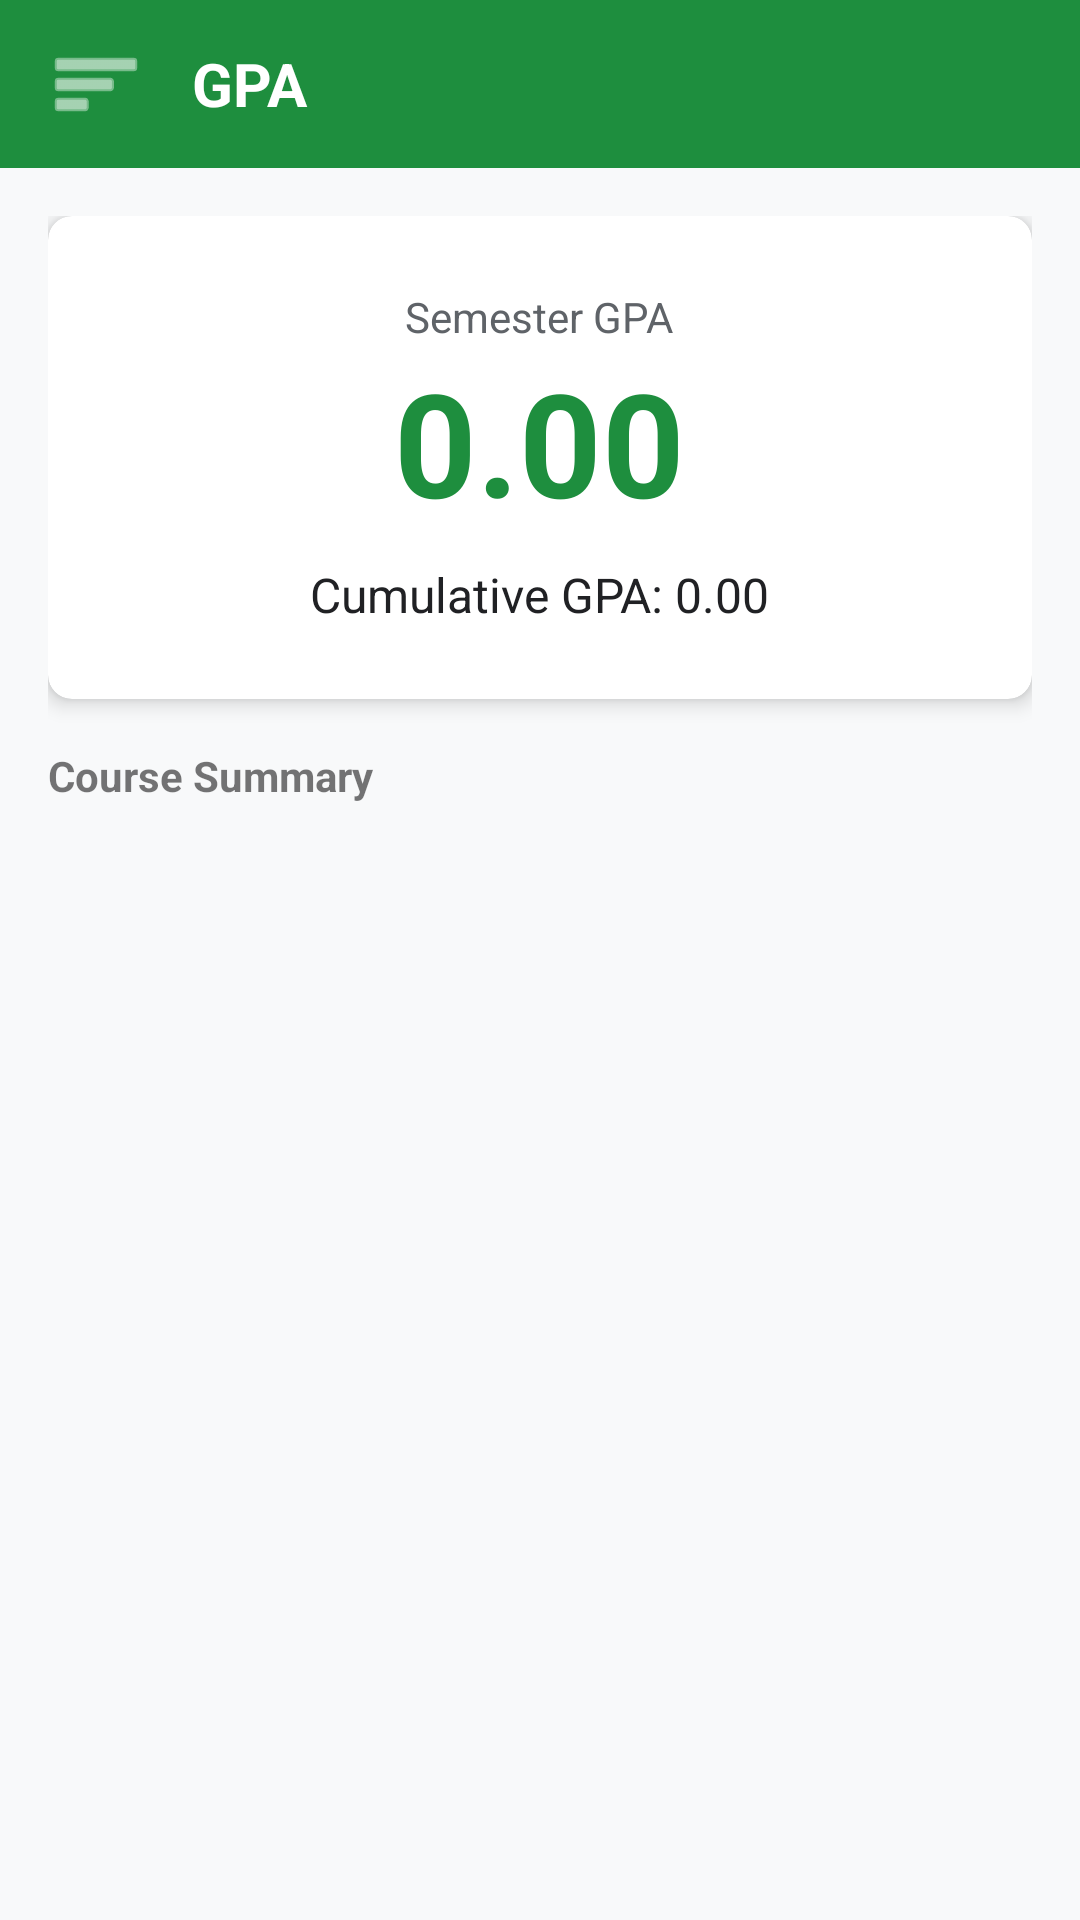

Point at icon controls on the screen. Image size 1080×1920, points as (x=x, y=y).
Open Menu: (x=96, y=84)
